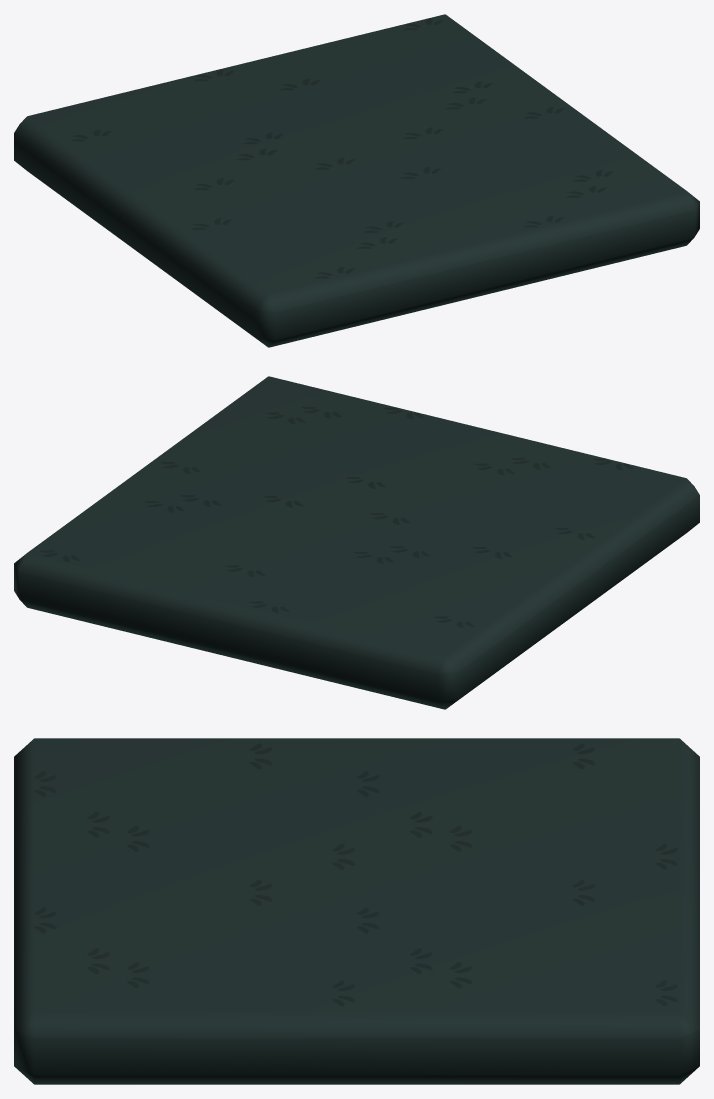
Rendered from grass_top_4x4.fbx.
3 renders of one model, top to bottom at view 1: azimuth 30°, elevation 25°; view 2: azimuth 150°, elevation 25°; view 3: azimuth 270°, elevation 25°, orthographic. The views are drawn at different scales.
Parts seen in each view (by area): view 1: grass_top_4x4; view 2: grass_top_4x4; view 3: grass_top_4x4.
Boxes of the visible parts, x1,y1,x2,y2 form: grass_top_4x4: (14, 14, 699, 347); grass_top_4x4: (14, 376, 699, 709); grass_top_4x4: (14, 738, 699, 1084).
Bounding box in the file's own units: 425 × 50 × 425.
